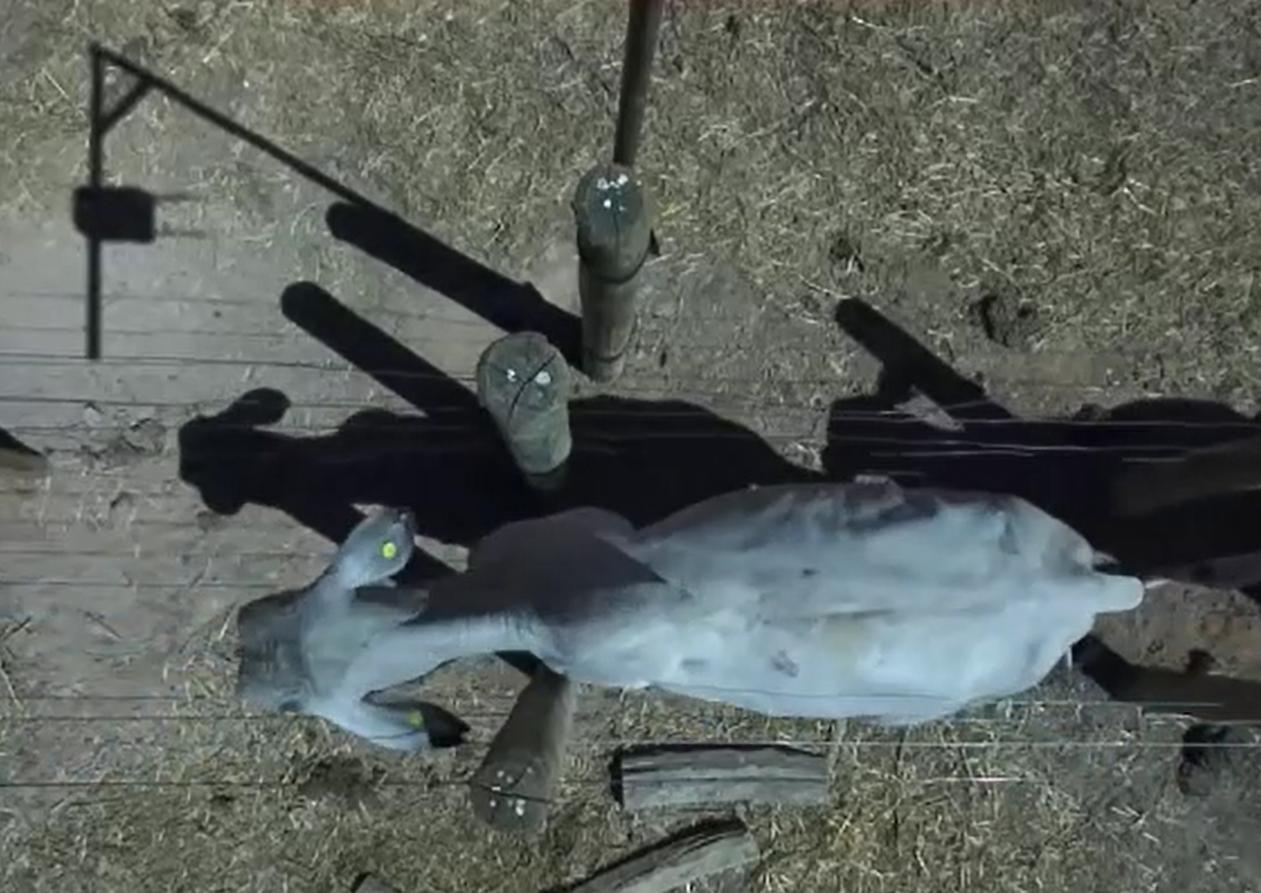cattle: (229, 465, 1146, 766)
